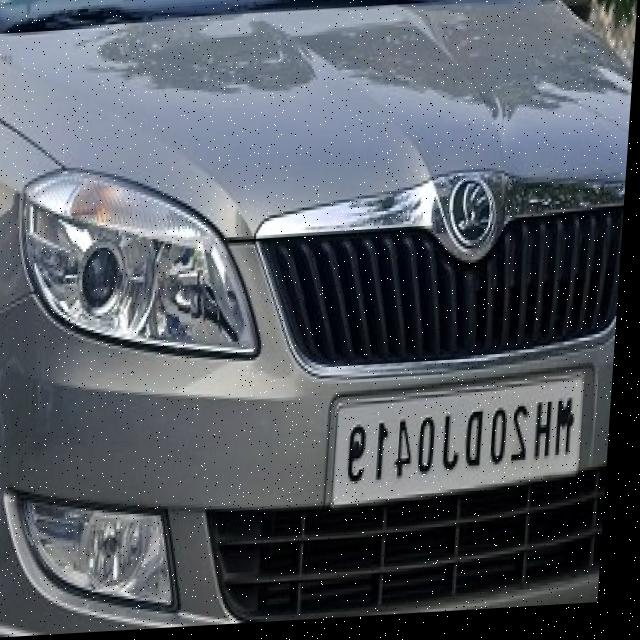plate: (337, 377, 591, 508)
